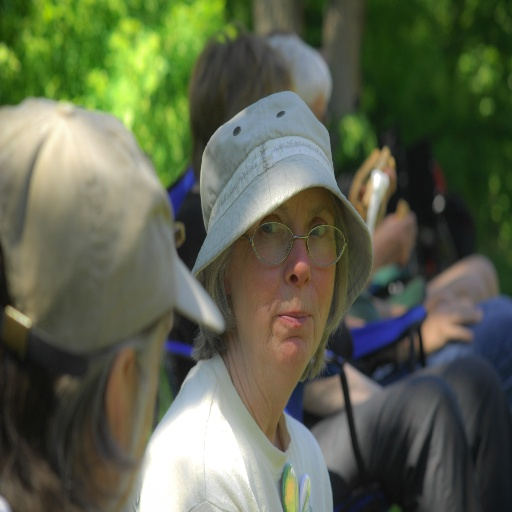hand: (428, 292, 474, 369), (378, 209, 415, 265)
